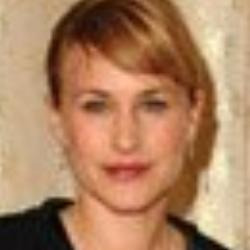face: (35, 2, 224, 227)
